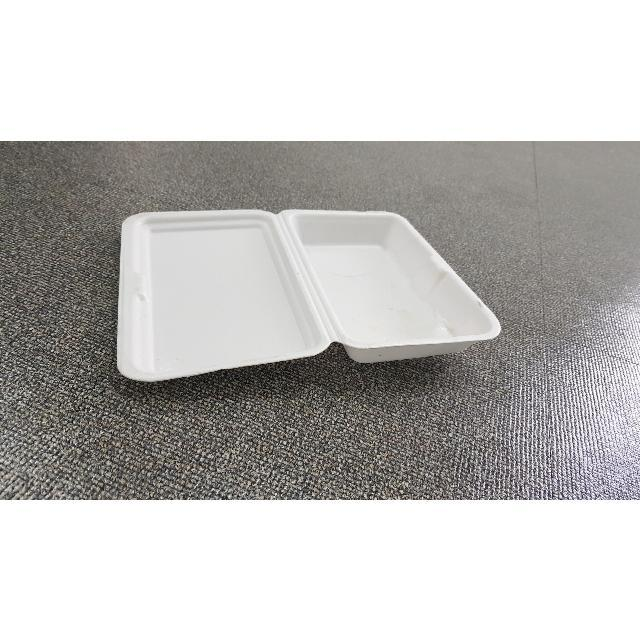Plastico descartable: (116, 210, 502, 385)
